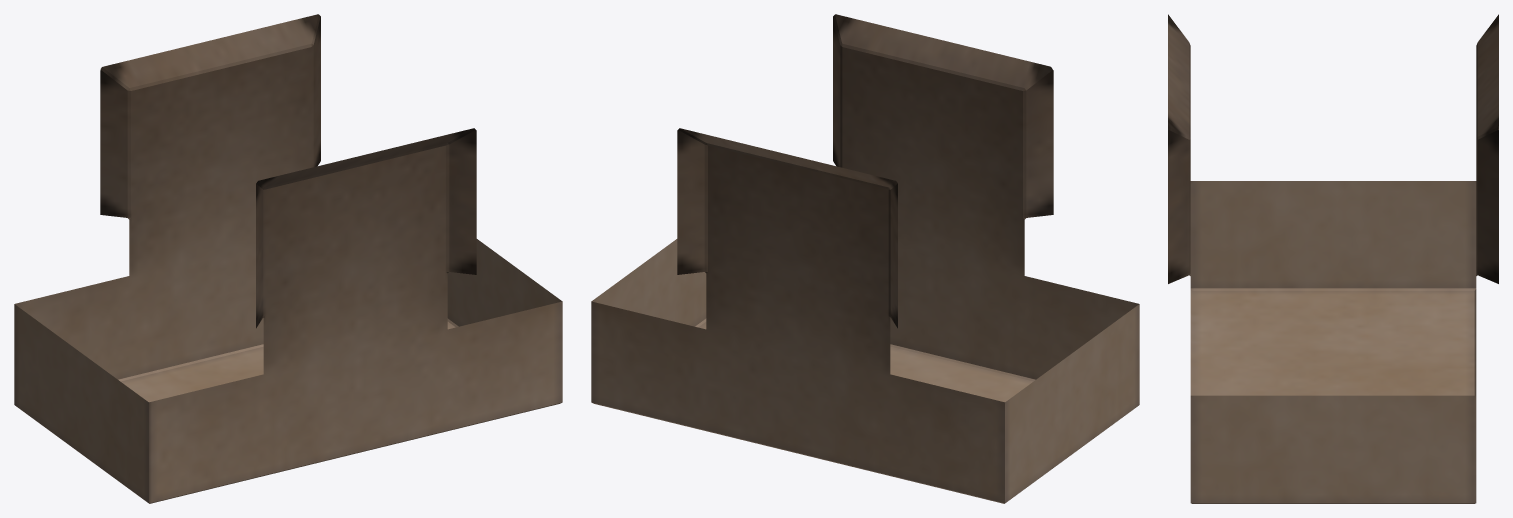
File: general_beam_end_panel.obj
3 renders of one model, left to right at view 1: azimuth 30°, elevation 25°; view 2: azimuth 150°, elevation 25°; view 3: azimuth 270°, elevation 25°, orthographic. The views are drawn at different scales.
Parts seen in each view (by area): view 1: general_beam_end_panel; view 2: general_beam_end_panel; view 3: general_beam_end_panel.
Part boxes in pixels (x1,y1,x2,y2): general_beam_end_panel: (14, 14, 562, 503); general_beam_end_panel: (591, 14, 1139, 503); general_beam_end_panel: (1168, 14, 1498, 503).
Size of the model in its own units: 2.11 by 1.5 by 1.38.
1 material, 1 textured.
